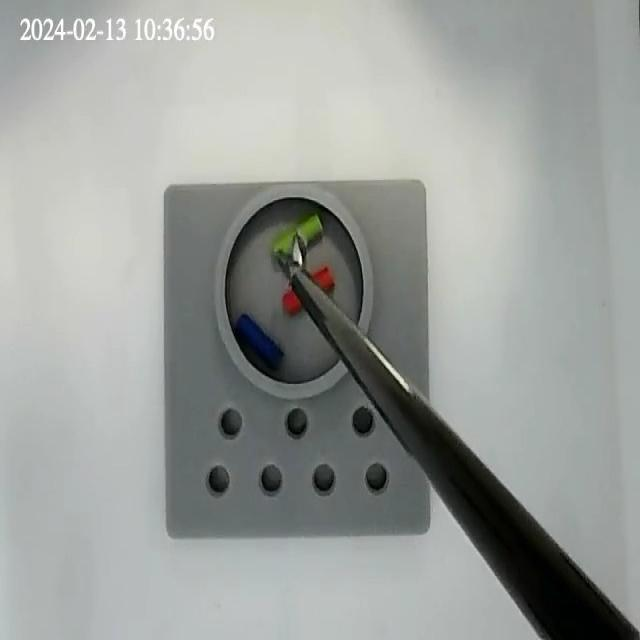EmptyHole: (255, 458, 285, 501), (281, 402, 311, 442), (362, 458, 392, 498), (216, 402, 244, 442), (310, 460, 338, 497), (204, 461, 231, 498), (350, 404, 374, 440)
